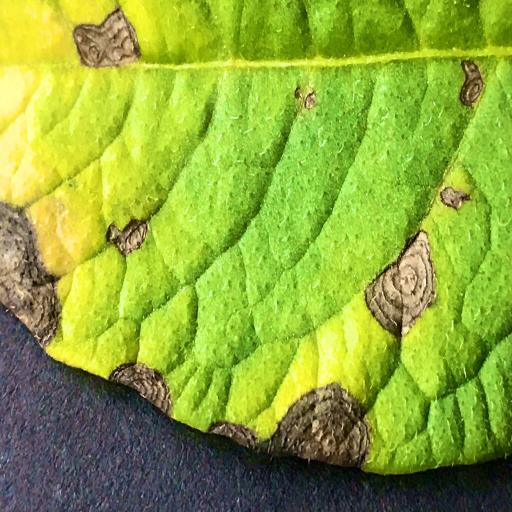Early Blight: (0, 0, 512, 476)
